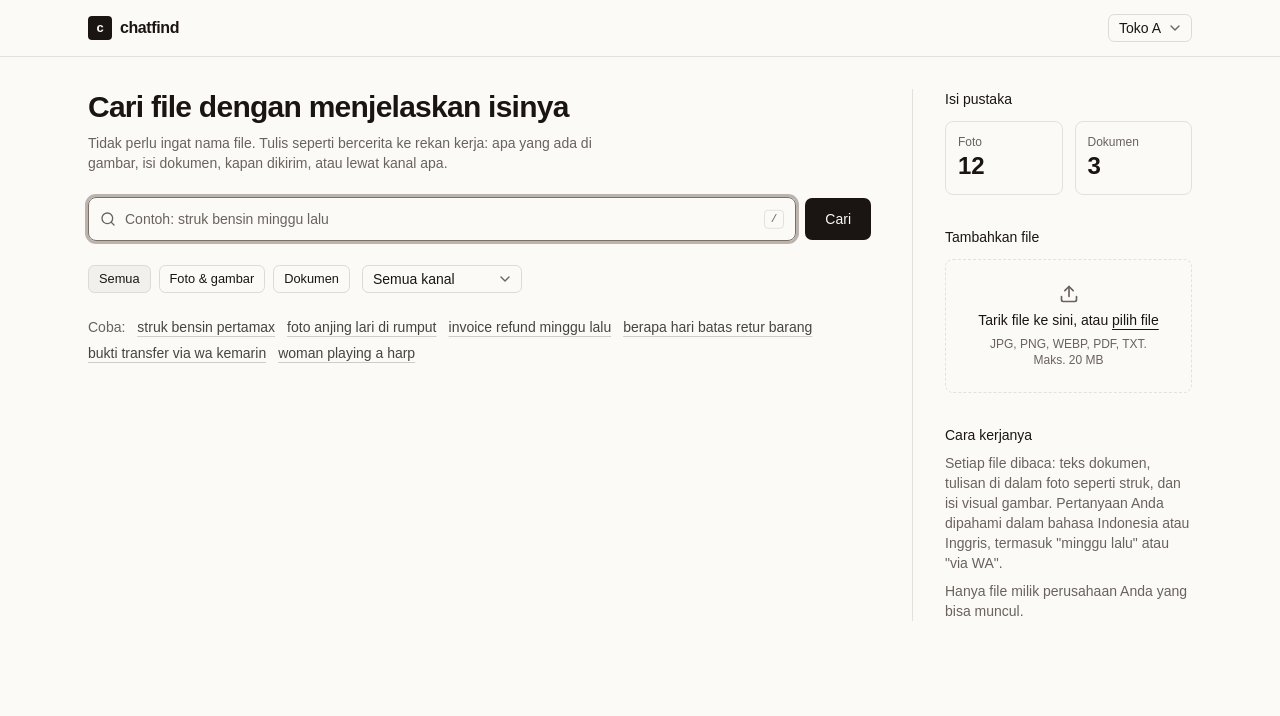
Test case: App › keeps only the newest response when searches overlap
Expected: the text with test id "stat-image" reads "12", [958, 152, 985, 179]
In the field with test id "search-input": point(442, 219) [88, 197, 796, 241], type "first"
Then press Enter
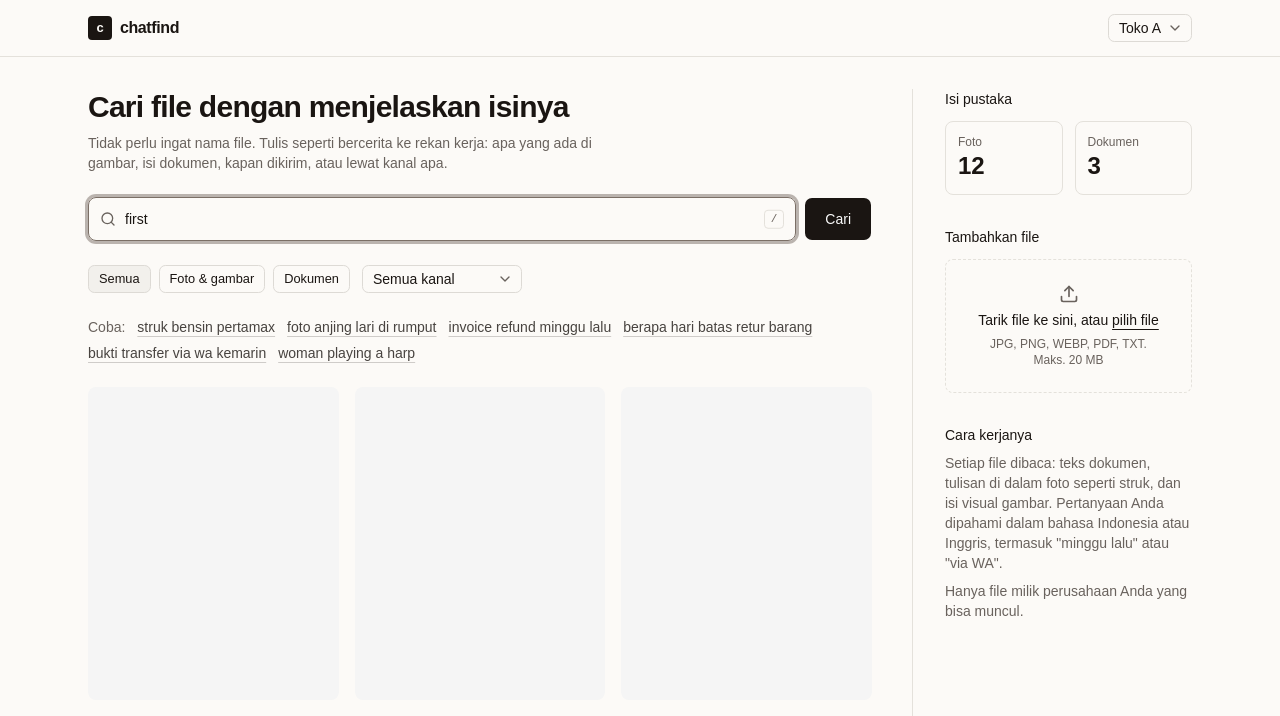
Replace the text in the field with test id "search-input" with "second": point(442, 219) [88, 197, 796, 241]
Then press Enter
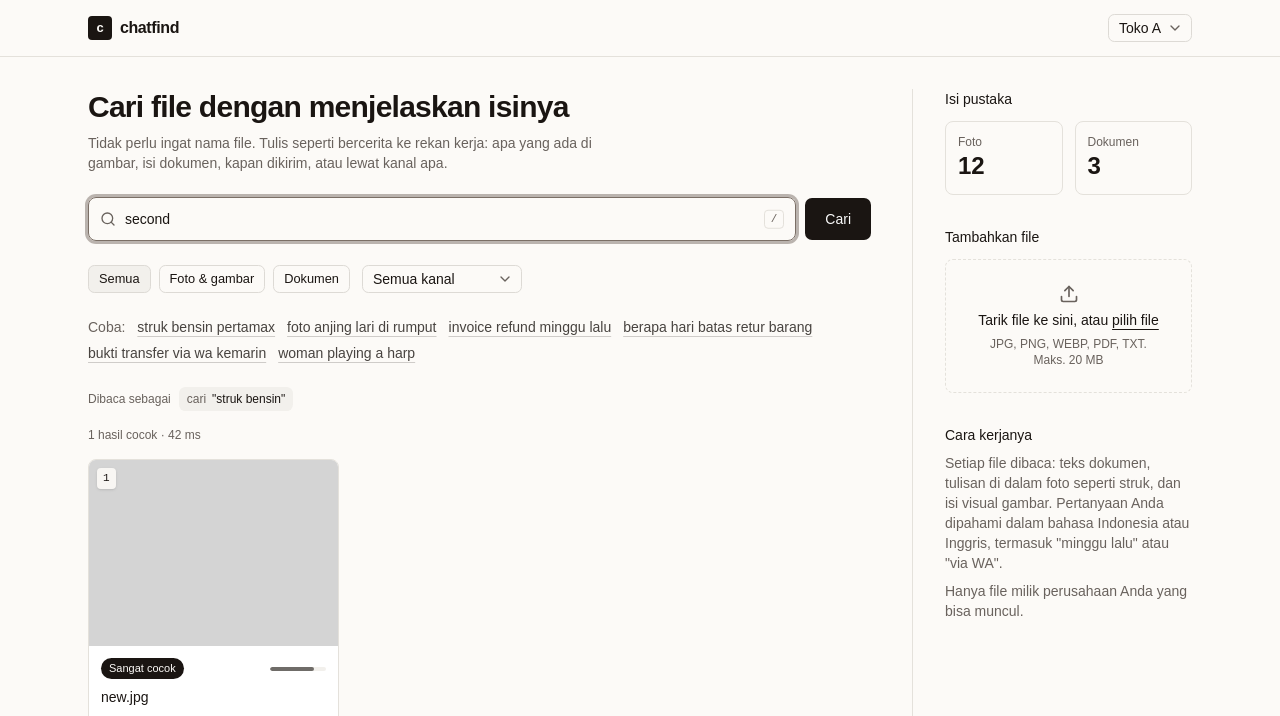
Expected: the text "new.jpg" is shown, [101, 689, 148, 705]
